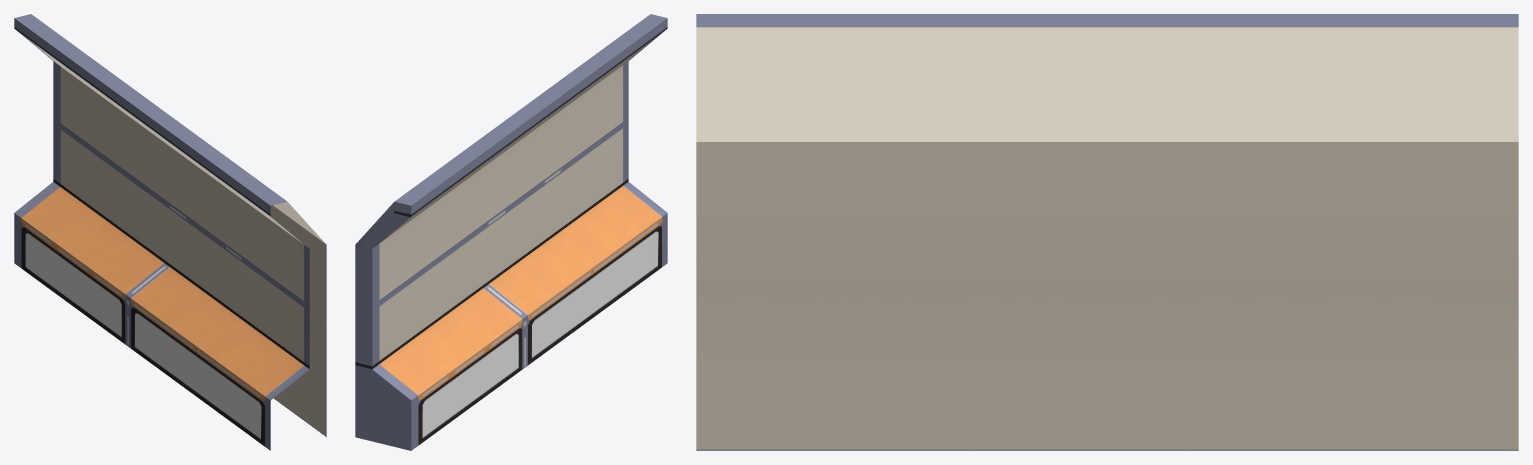
The model's file is main_wall_low.FBX.
3 views of the same model, side by side, from view 1: azimuth 30°, elevation 25°; view 2: azimuth 150°, elevation 25°; view 3: azimuth 270°, elevation 25° (orthographic). The views are drawn at different scales.
Visible parts, largest first — view 1: wall_main_low; view 2: wall_main_low; view 3: wall_main_low.
Part boxes in pixels (x1,y1,x2,y2): wall_main_low: [14, 14, 326, 450]; wall_main_low: [355, 14, 667, 450]; wall_main_low: [696, 14, 1518, 450].
Bounding box in the file's own units: 71.69 × 569 × 300.
Materials: 1 (1 with a texture image).
